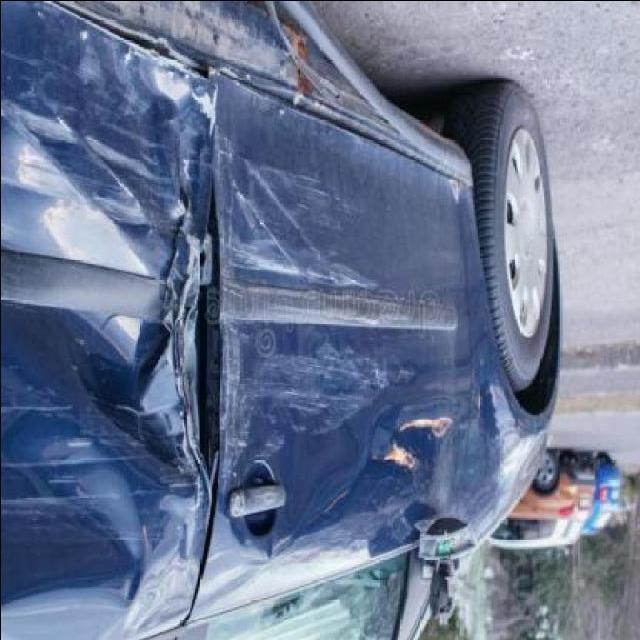RunningBoard-Dent: (47, 1, 308, 80)
